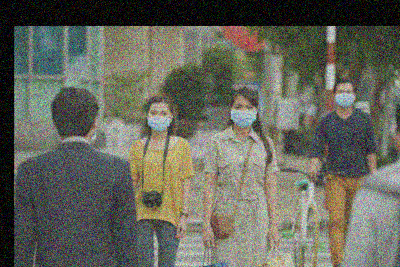with_mask: (231, 101, 257, 128), (147, 107, 171, 134), (336, 87, 355, 108)
